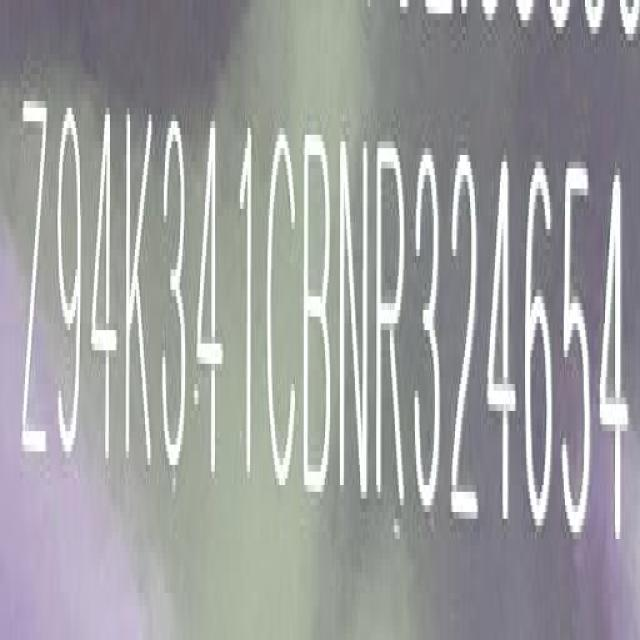1: (233, 112, 255, 495)
2: (450, 146, 482, 538)
3: (158, 102, 190, 494), (414, 143, 445, 521)
4: (487, 153, 521, 541), (599, 165, 632, 551), (194, 107, 227, 489), (90, 99, 120, 475)
5: (560, 156, 593, 550)
6: (524, 154, 556, 543)
9: (51, 93, 82, 479)
B: (303, 122, 337, 500)
C: (264, 120, 298, 497)
K: (122, 95, 154, 474)
N: (339, 130, 372, 508)
R: (376, 137, 410, 515)
Z: (20, 88, 50, 480)
